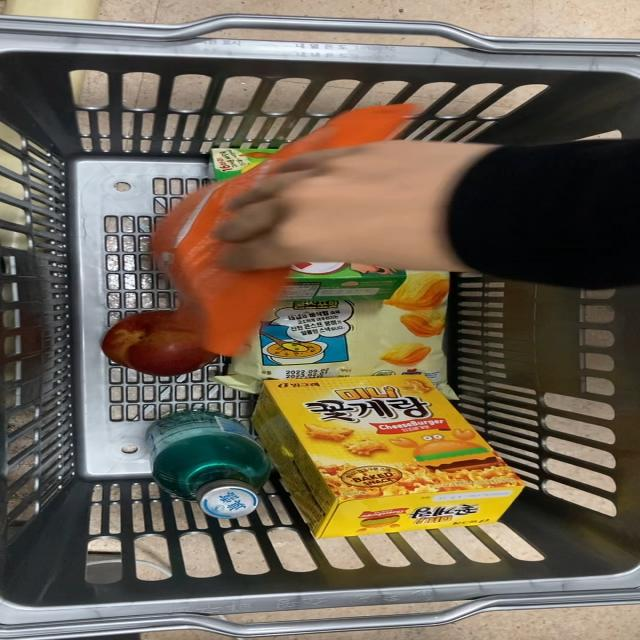cheesebagel: (158, 169, 270, 301)
ggobukchip: (265, 268, 455, 371)
jinro: (140, 409, 269, 529)
minicrab: (265, 376, 513, 552)
plum: (102, 307, 214, 384)
